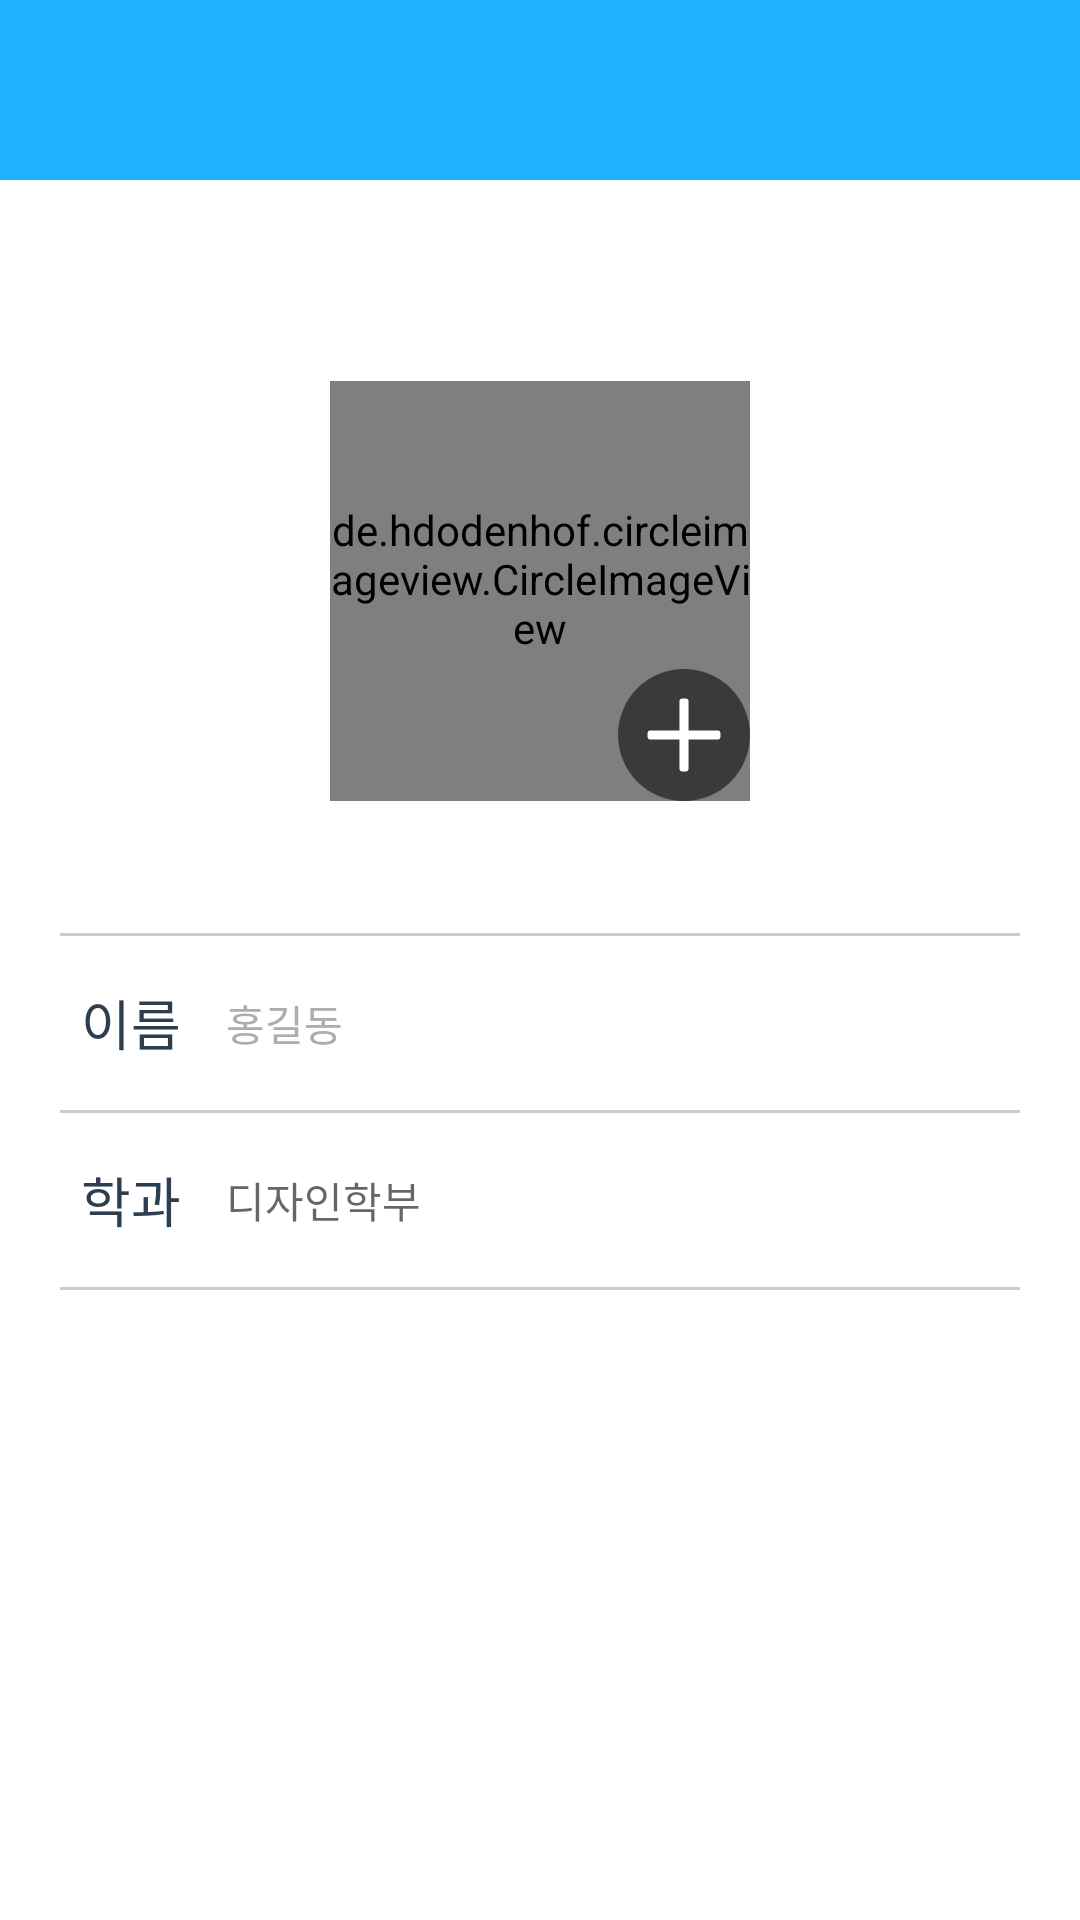

Icons on this 1080 x 1920 Android screen, each with the point to tap as point (x, y):
add profile picture: point (684, 735)
